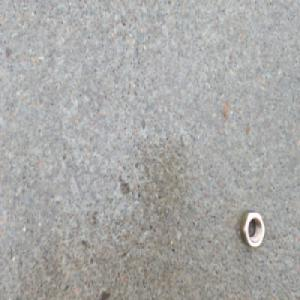Nut: (238, 207, 264, 249)
